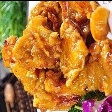guobaorou: (1, 0, 112, 110)
